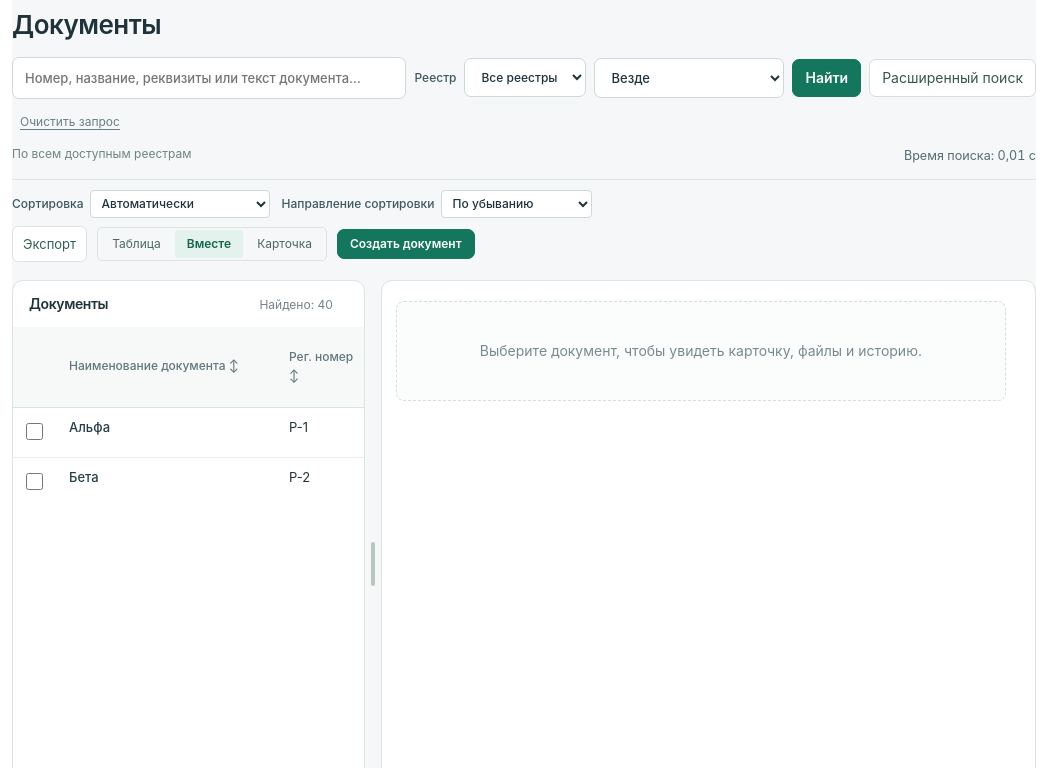
Test: keeps creation actions in the same top dock as the card, separate from registry and type pickers
Click the button "Создать документ" at (406, 244), box top-left (337, 229), bottom-right (475, 259)
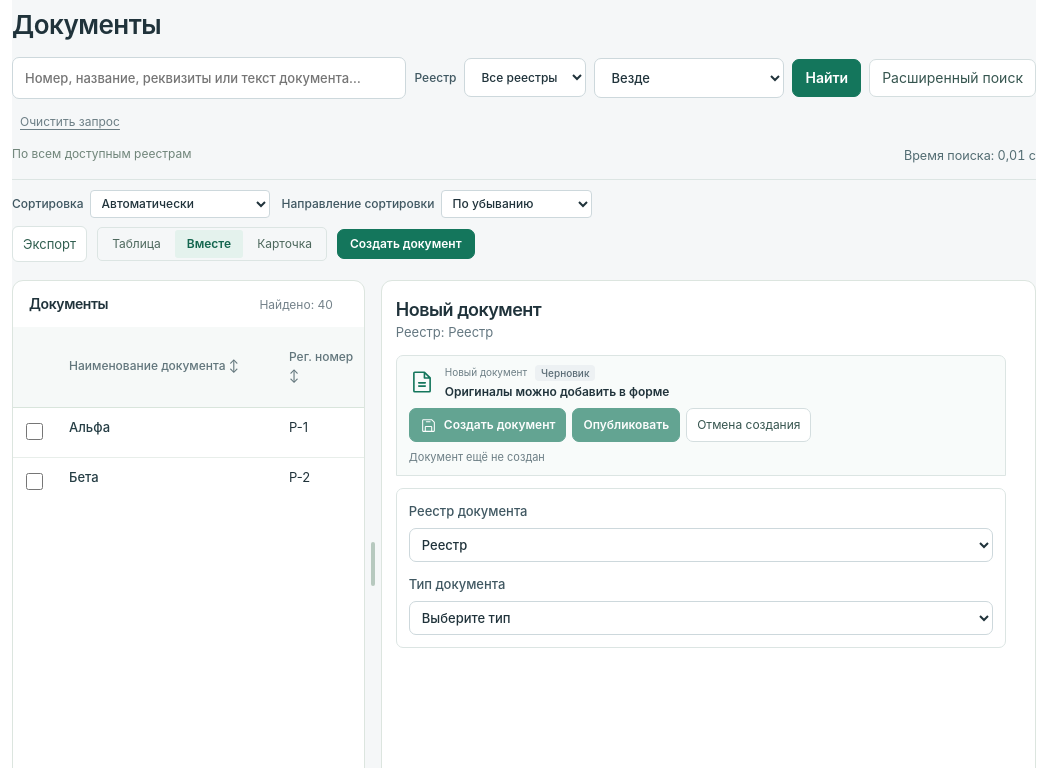
Check: the element named "Действия с новым документом" is shown, box top-left (396, 354), bottom-right (1006, 476)
Check: the button "Создать документ" below "Оригиналы можно добавить в форме" is disabled, box top-left (409, 408), bottom-right (566, 442)
Select "Приказ" in the dropdown labelled "Тип документа" at (701, 618), box top-left (409, 601), bottom-right (993, 635)
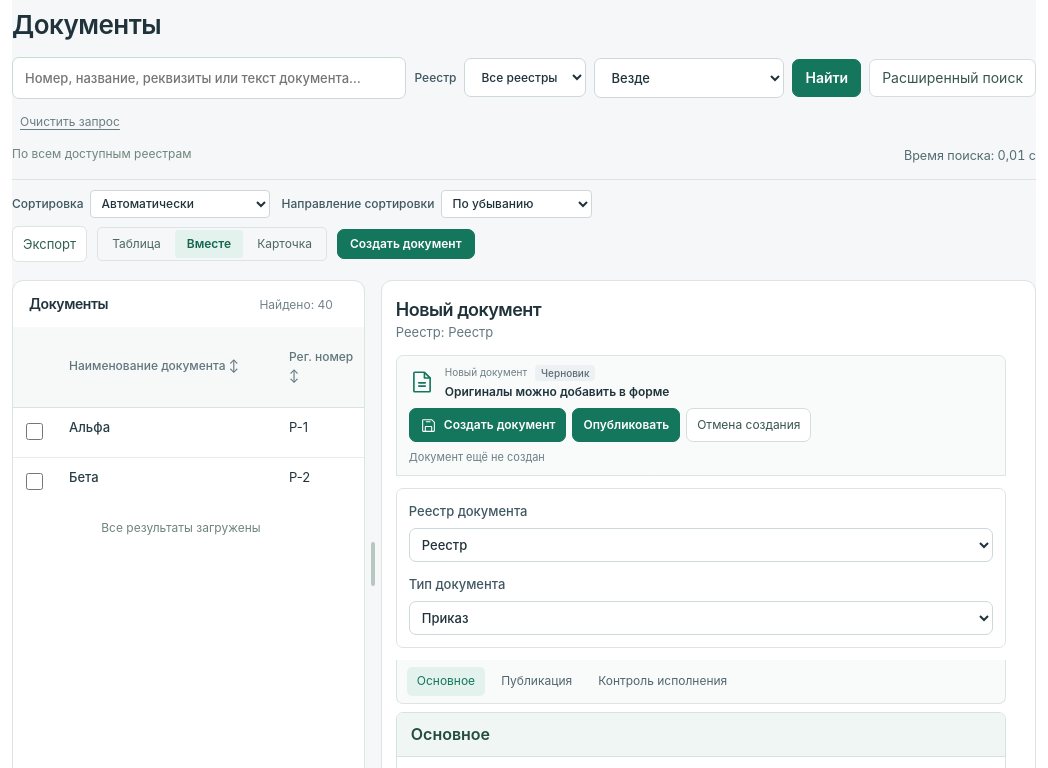
Check: the text "Черновик" is shown, box top-left (535, 364), bottom-right (596, 380)
Check: the button "Создать документ" below "Оригиналы можно добавить в форме" is enabled, box top-left (409, 408), bottom-right (566, 442)
